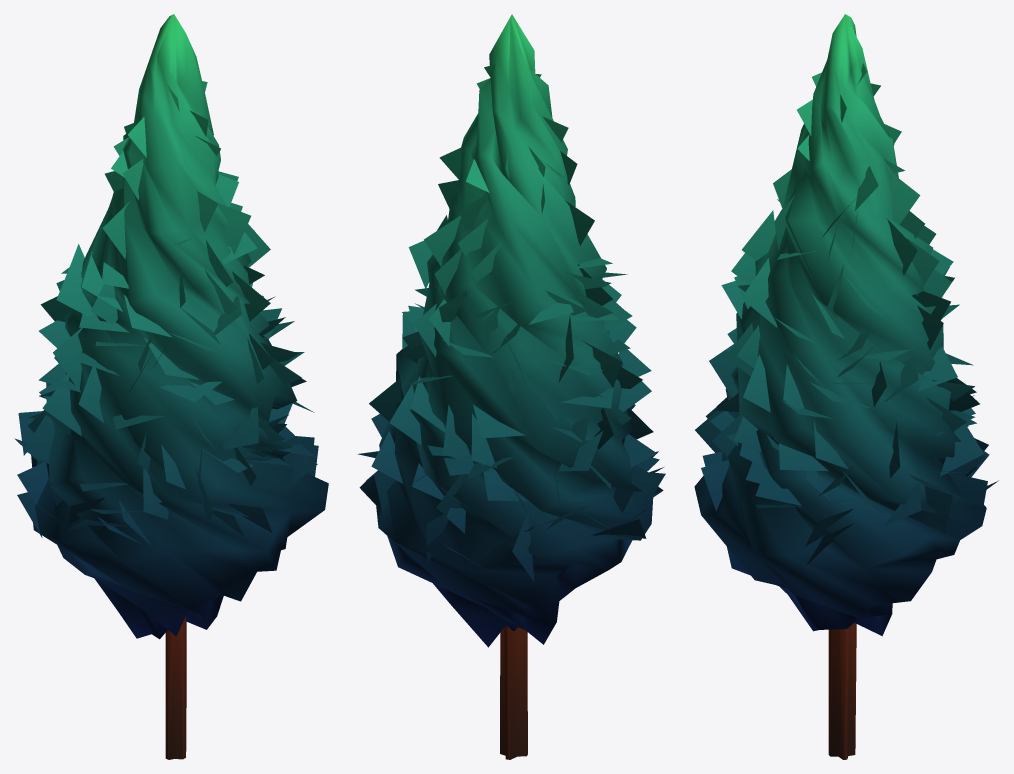
File: Pine_Tree_3B.fbx
3 views of the same model, side by side, from view 1: azimuth 30°, elevation 25°; view 2: azimuth 150°, elevation 25°; view 3: azimuth 270°, elevation 25° (orthographic).
Visible parts, largest first — view 1: Pine_Tree_3B; view 2: Pine_Tree_3B; view 3: Pine_Tree_3B.
Boxes of the visible parts, <box> form: Pine_Tree_3B: <box>14,14,328,759</box>; Pine_Tree_3B: <box>357,14,665,759</box>; Pine_Tree_3B: <box>694,14,998,759</box>.
Bounding box in the file's own units: 315 × 807 × 301.
